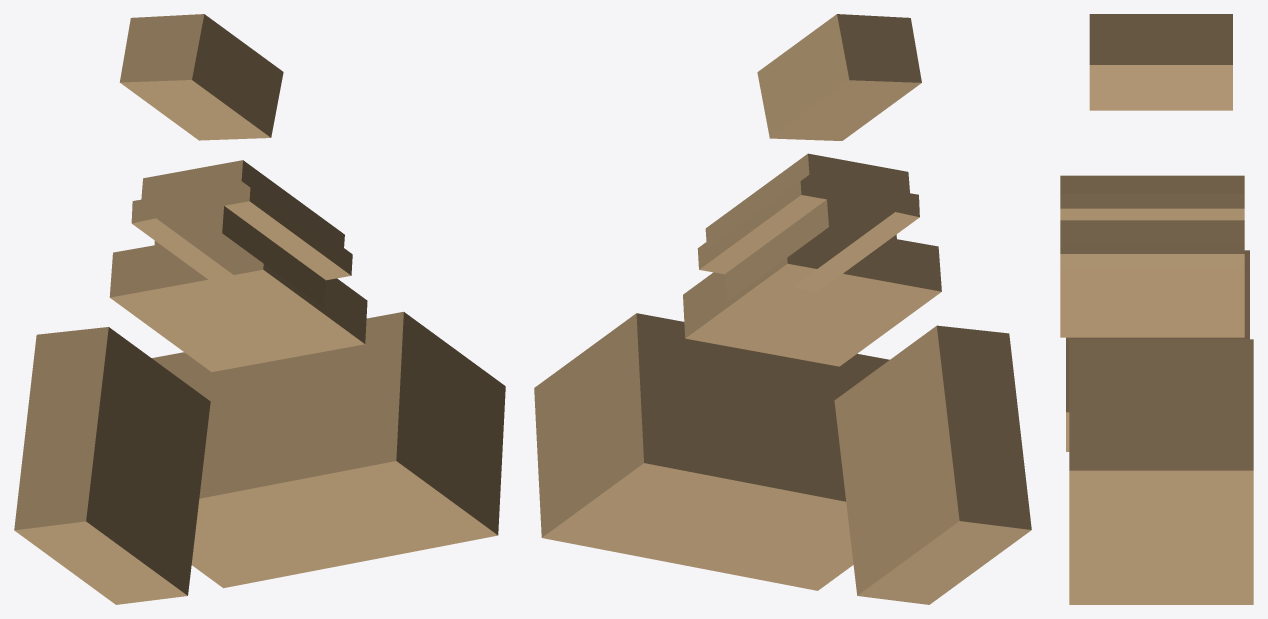
The picture shows the model from 3 angles, left to right: view 1: azimuth 30°, elevation 25°; view 2: azimuth 150°, elevation 25°; view 3: azimuth 270°, elevation 25°; orthographic projection. The views are drawn at different scales.
Visible parts, largest first — view 1: 0_0_3_2_0_0_1_1; view 2: 0_0_3_2_0_0_1_1; view 3: 0_0_3_2_0_0_1_1.
Boxes of the visible parts, x1,y1,x2,y2 form: 0_0_3_2_0_0_1_1: [14, 14, 505, 604]; 0_0_3_2_0_0_1_1: [534, 14, 1031, 604]; 0_0_3_2_0_0_1_1: [1060, 14, 1253, 604].
Bounding box in the file's own units: 59.9 × 75.85 × 28.3.
